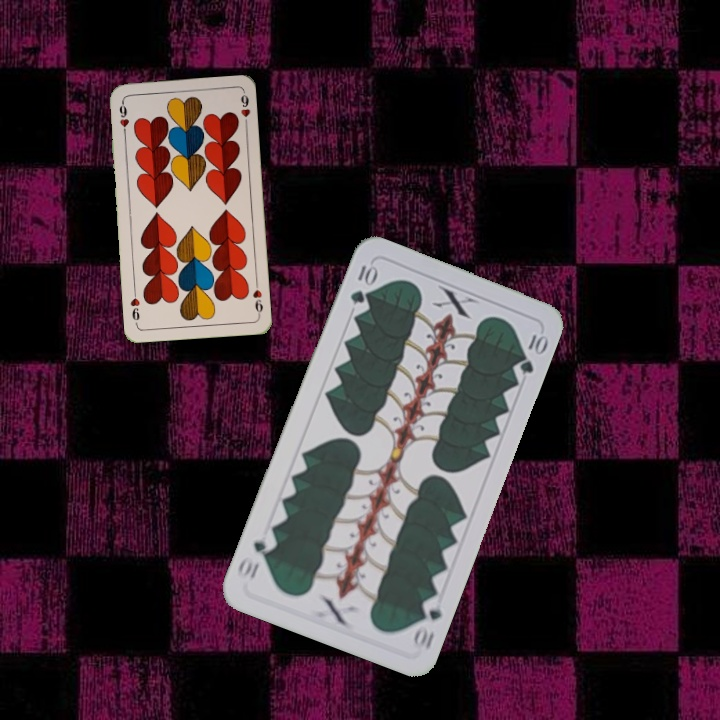G10: (408, 593, 445, 653), (346, 259, 379, 307)
H9: (249, 277, 266, 318), (115, 98, 132, 138)
